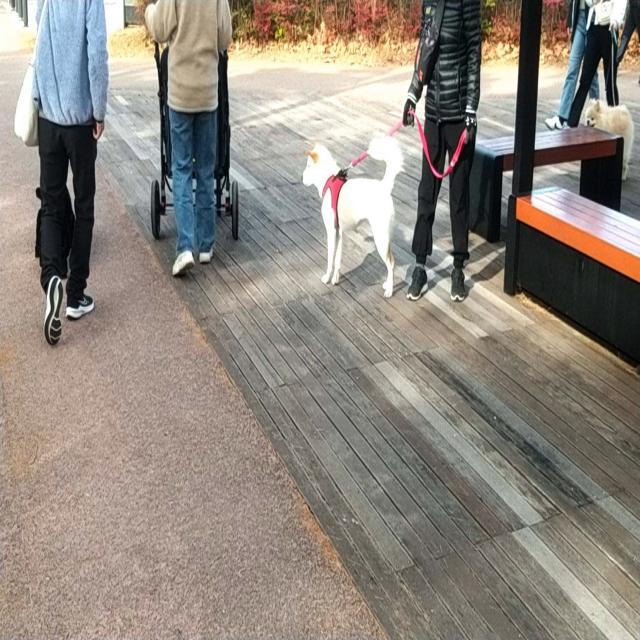Leashed_Dog: (301, 106, 434, 300)
